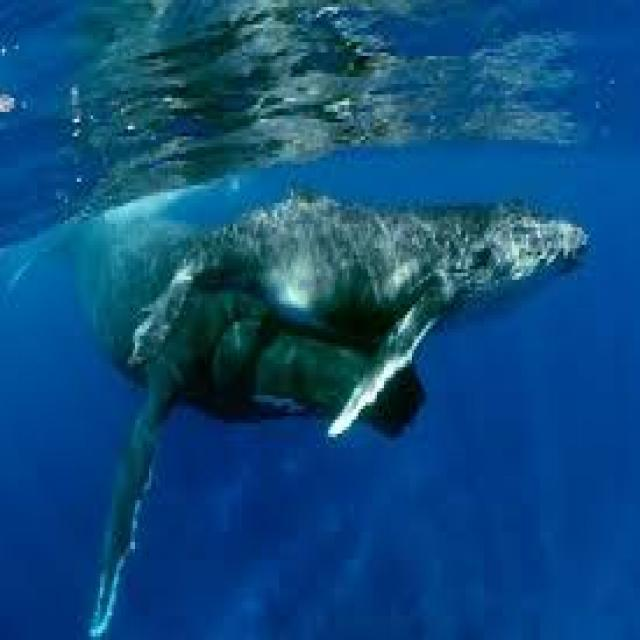blue_whale: (53, 192, 430, 640), (154, 150, 596, 378)
